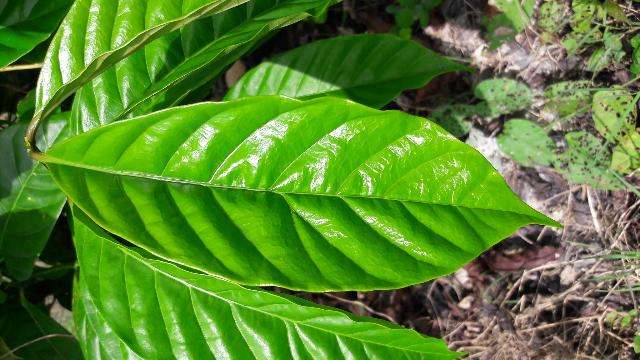healthy: (45, 95, 563, 291)
